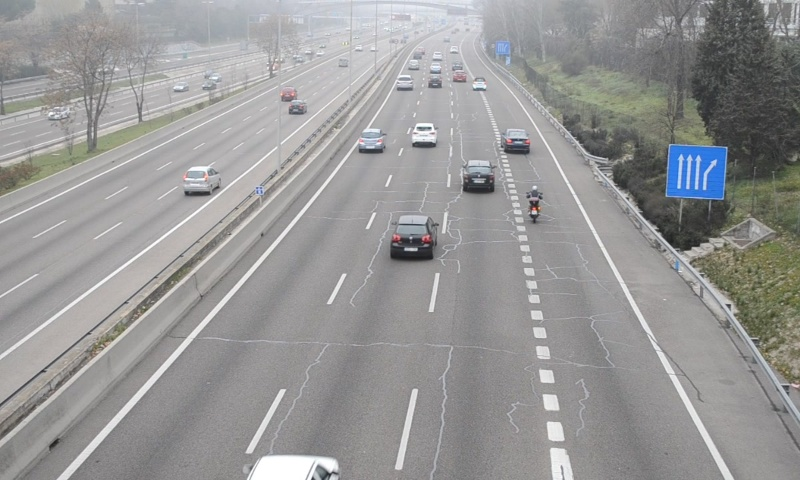car: (391, 214, 437, 256), (462, 160, 496, 192), (502, 128, 530, 152), (358, 129, 386, 152), (412, 123, 438, 146), (396, 73, 414, 90), (473, 76, 486, 92)
motorcycle: (525, 184, 543, 225)
